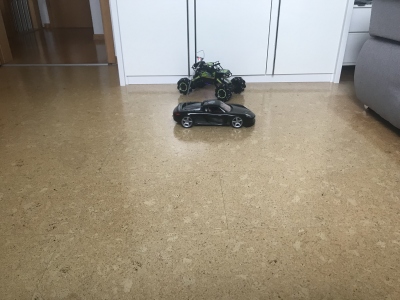remote control car: (176, 56, 247, 101)
